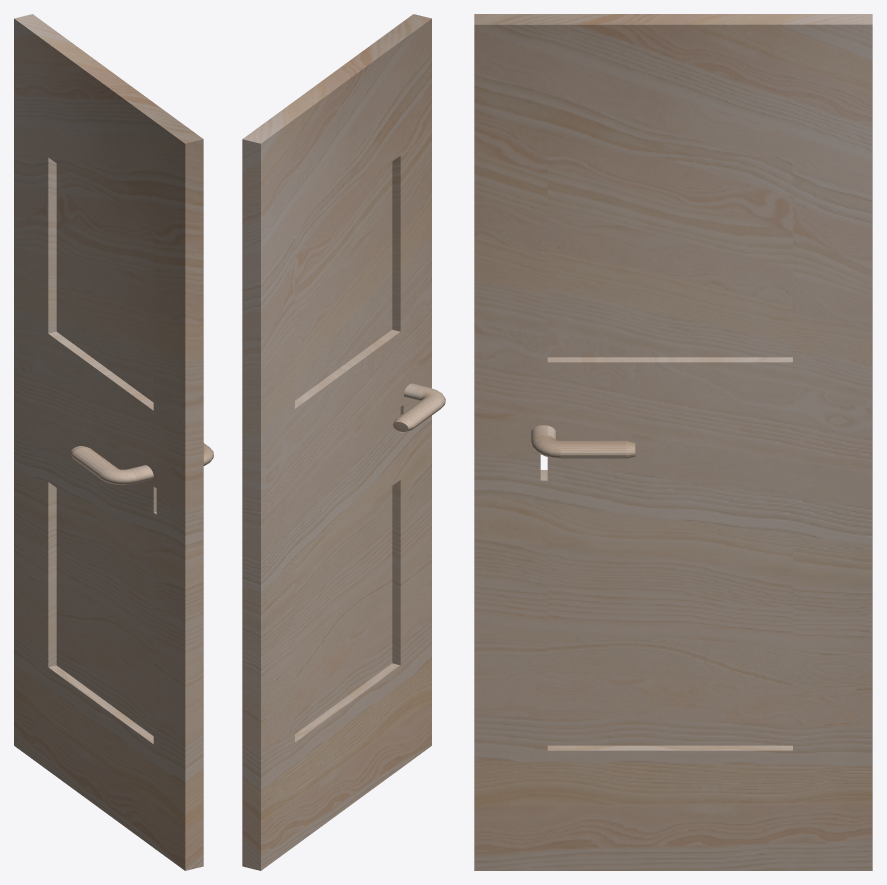
The model's file is Door.fbx.
3 views of the same model, side by side, from view 1: azimuth 30°, elevation 25°; view 2: azimuth 150°, elevation 25°; view 3: azimuth 270°, elevation 25° (orthographic). The views are drawn at different scales.
Visible parts, largest first — view 1: Door, pCylinder3; view 2: Door, pCylinder3; view 3: Door, pCylinder2.
Part boxes in pixels (left/top/right/bottom): Door: left=14, top=14, right=203, bottom=870; pCylinder3: left=70, top=446, right=153, bottom=484; Door: left=242, top=14, right=431, bottom=870; pCylinder3: left=393, top=383, right=445, bottom=431; Door: left=474, top=14, right=872, bottom=870; pCylinder2: left=531, top=425, right=635, bottom=458.
Bounding box in the file's own units: 0.4108 × 2.58 × 1.1.
1 material, 1 textured.
